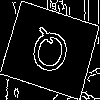Q: (25, 25, 74, 84)
